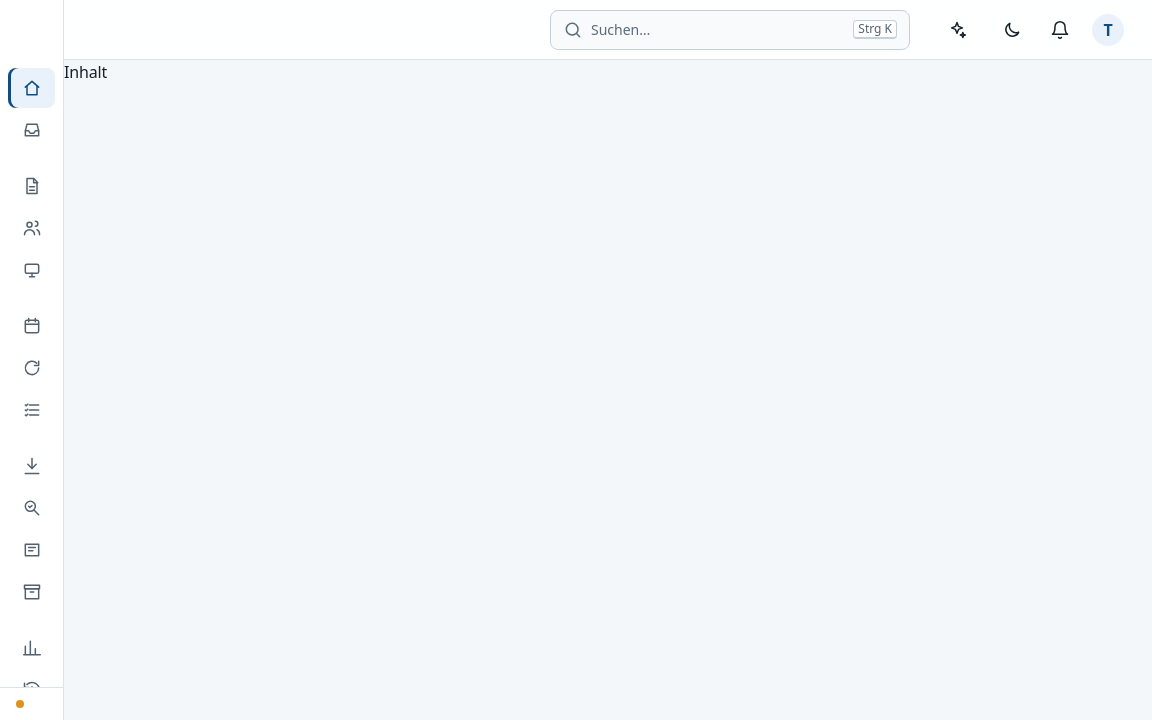
Shell: Topbar-Eingaben › oeffnet die Suche ueber die Kopfzeile (Befehlspalette)
Click the button with aria-label "Suchen und Befehle (Strg+K)".
click(621, 30)  # box [550,10,910,50]
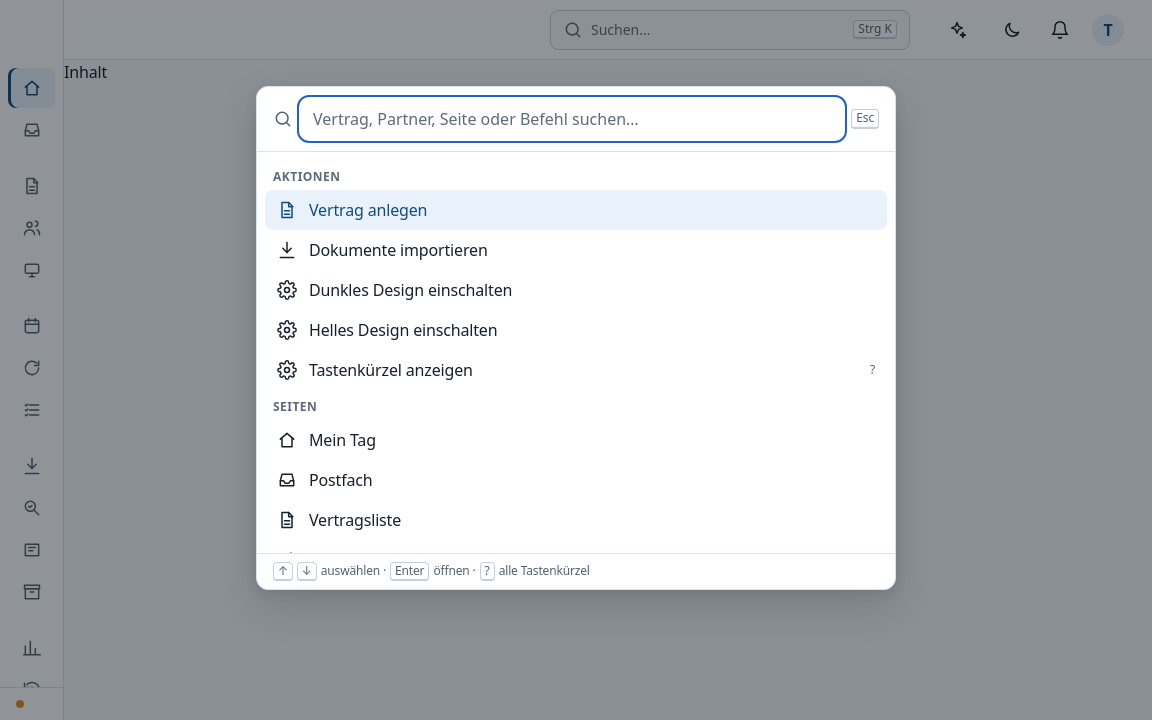
Result: the dialog named "Befehle und Suche" is shown at [256,86,896,590]
